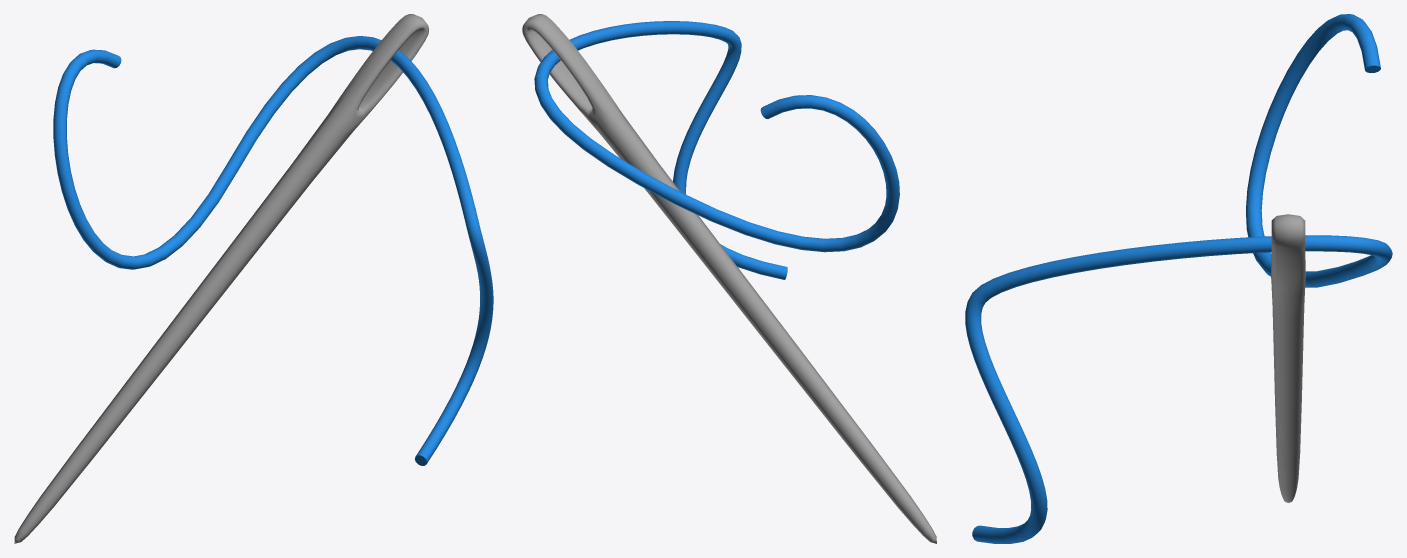
The model's file is sewing_needle.glb.
3 views of the same model, side by side, from view 1: azimuth 30°, elevation 25°; view 2: azimuth 150°, elevation 25°; view 3: azimuth 270°, elevation 25° (orthographic). The views are drawn at different scales.
Visible parts, largest first — view 1: Cube.909; view 2: Cube.909; view 3: Cube.909.
Boxes of the visible parts, left/top/right/bottom form: Cube.909: left=14, top=14, right=493, bottom=543; Cube.909: left=522, top=14, right=936, bottom=543; Cube.909: left=965, top=14, right=1392, bottom=543.
Bounding box in the file's own units: 2.1 × 2.18 × 1.56.
Materials: 1 (1 with a texture image).
